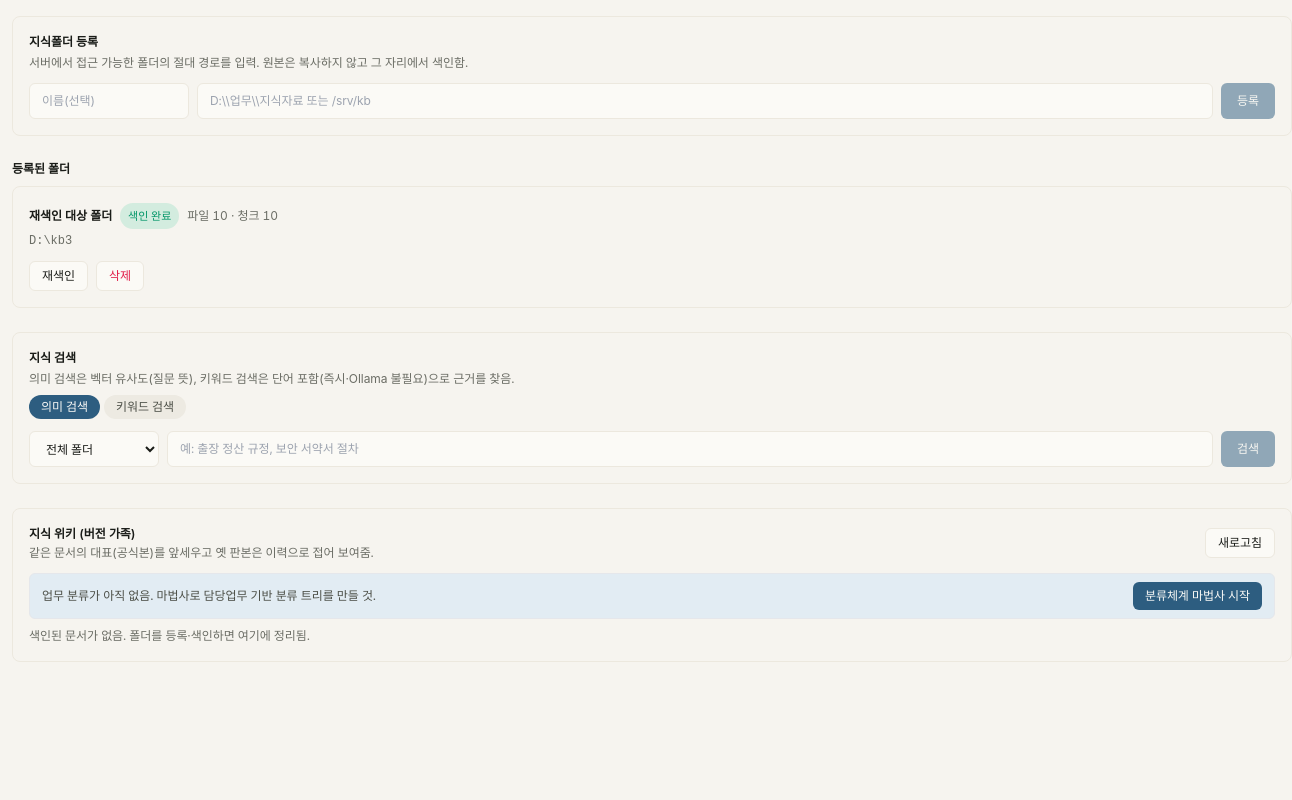
Test: KnowledgePanel — 202 백그라운드 색인 진행률 › 재색인이 409를 받으면 이미 진행 중이라는 한국어 안내를 표시한다
Expected: the text "재색인 대상 폴더" is shown, [29, 207, 112, 225]
Click the button "재색인". click: {"x": 58, "y": 276}
box: [29, 261, 88, 291]
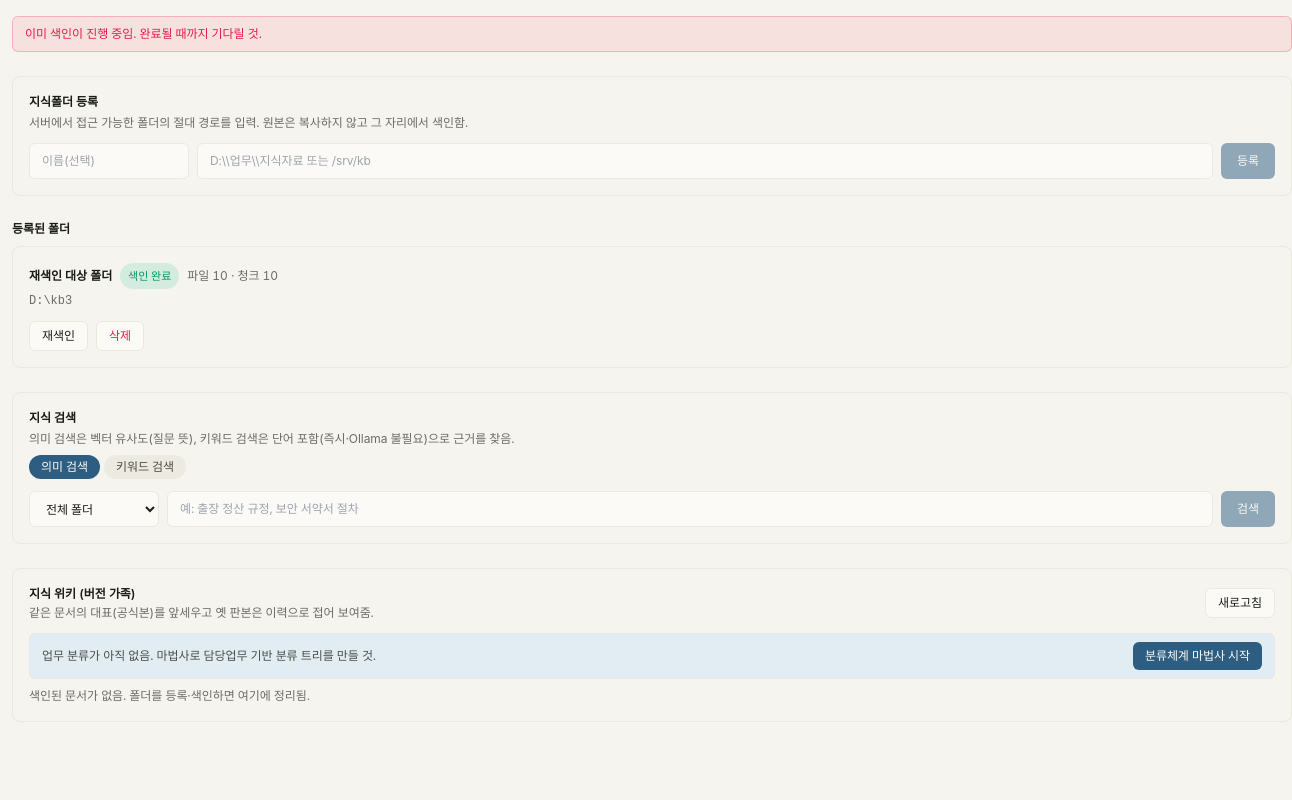
Now the text "이미 색인이 진행 중임. 완료될 때까지 기다릴 것." is shown, box [12, 16, 1291, 52]
